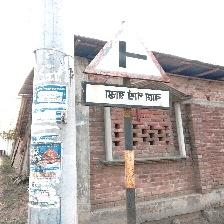Side-road-left: (82, 22, 173, 110)
